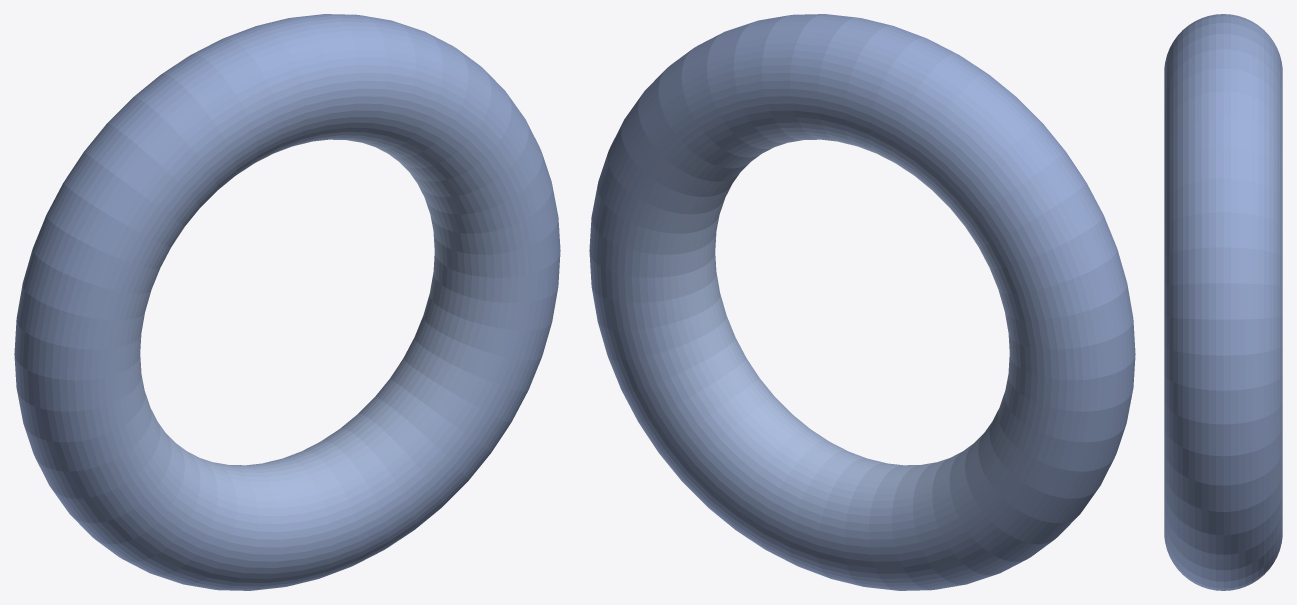
3 renders of one model, left to right at view 1: azimuth 30°, elevation 25°; view 2: azimuth 150°, elevation 25°; view 3: azimuth 270°, elevation 25°, orthographic. The views are drawn at different scales.
Visible parts, largest first — view 1: world; view 2: world; view 3: world.
Part boxes in pixels (box(x1,y1,x2,y2)): world: box(14, 14, 560, 590); world: box(589, 14, 1135, 590); world: box(1164, 14, 1282, 590).
Size of the model in its own units: 22.67 by 22.62 by 4.66.
